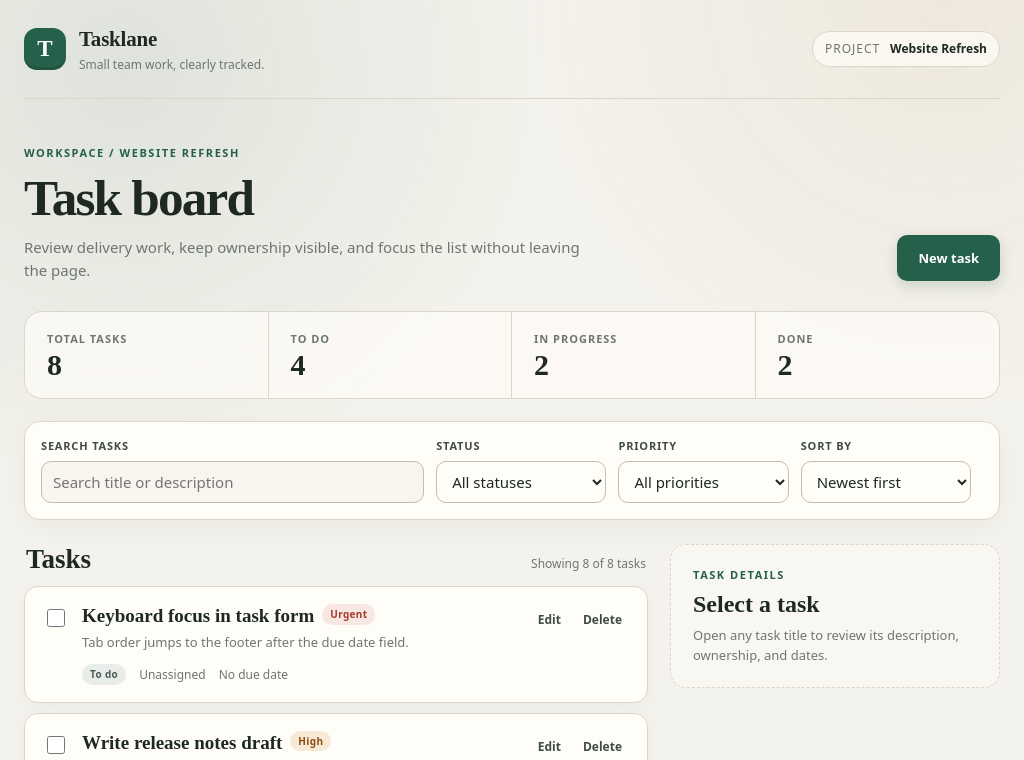
Test: TaskBoard › creates a task and adds it to the list
The image size is (1024, 760).
Click the button "New task" at (949, 258), box x1=898 y1=235 x2=1000 y2=281
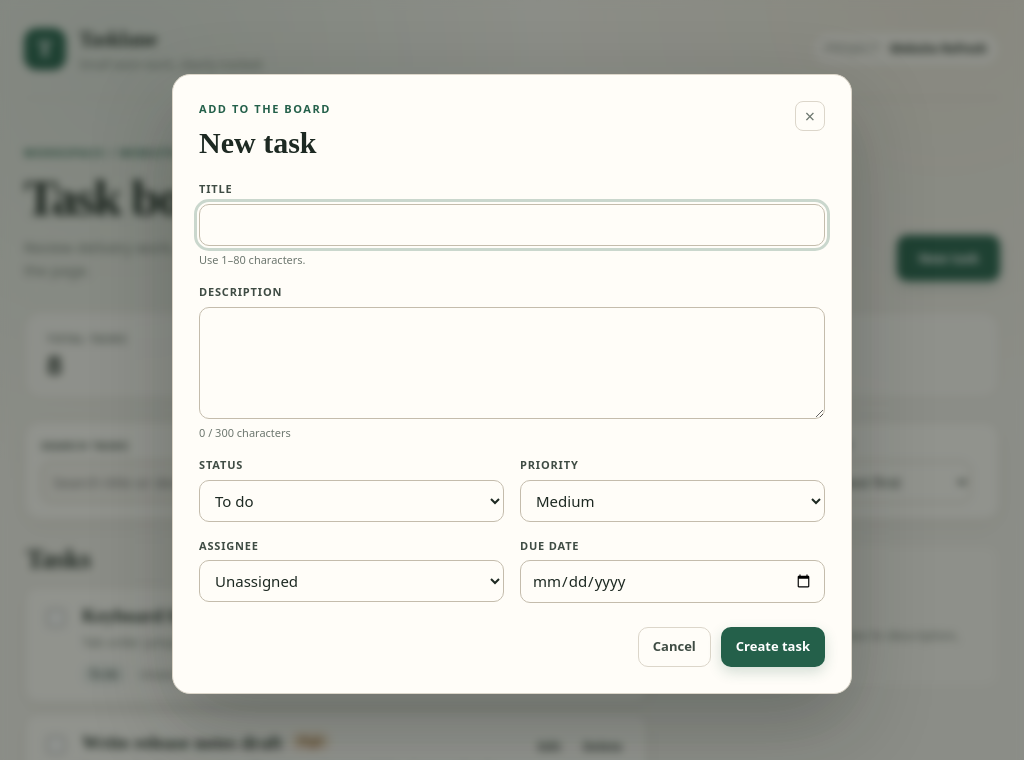
Type "Draft launch announcement" into the field labelled "Title" at (512, 225), box x1=199 y1=204 x2=825 y2=246
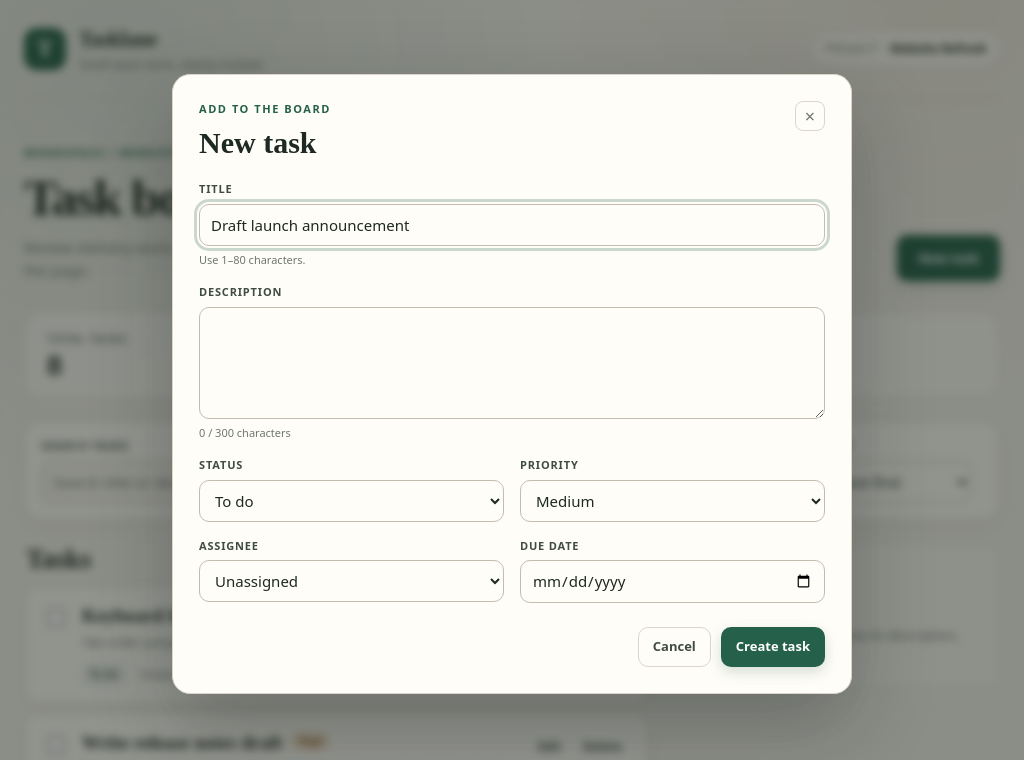
Type "Write a short note for the internal launch channel." into the text box labelled "Description" at (512, 363), box x1=199 y1=307 x2=825 y2=419
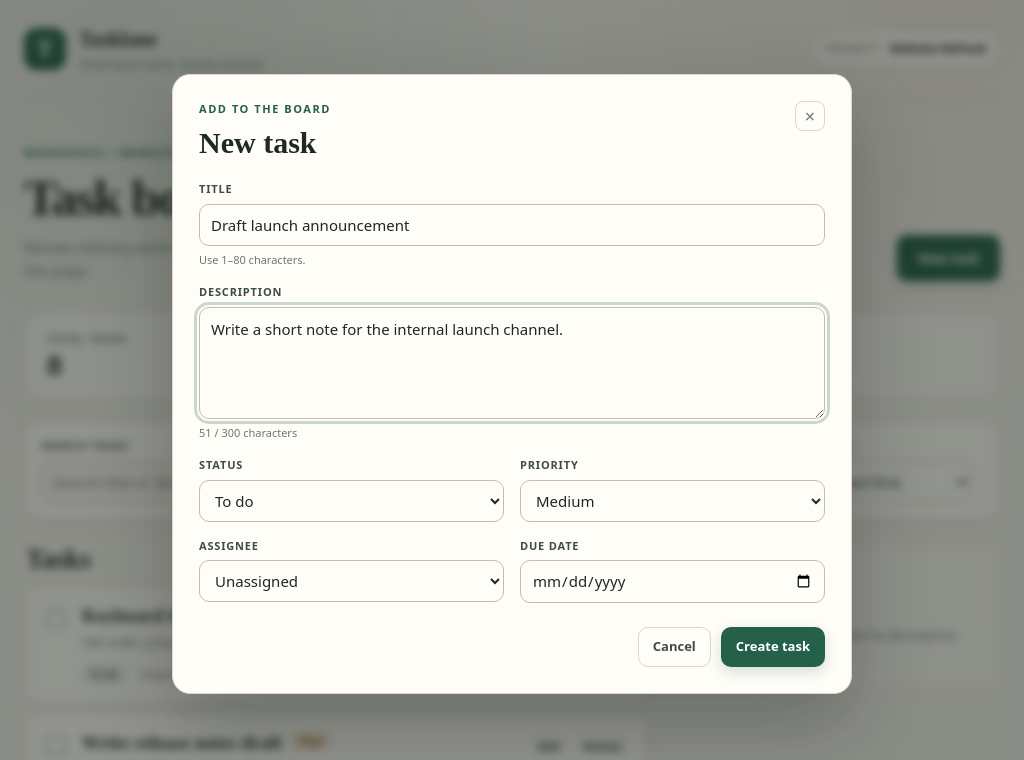
Select "High" in the dropdown labelled "Priority" at (672, 501), box x1=520 y1=480 x2=825 y2=522
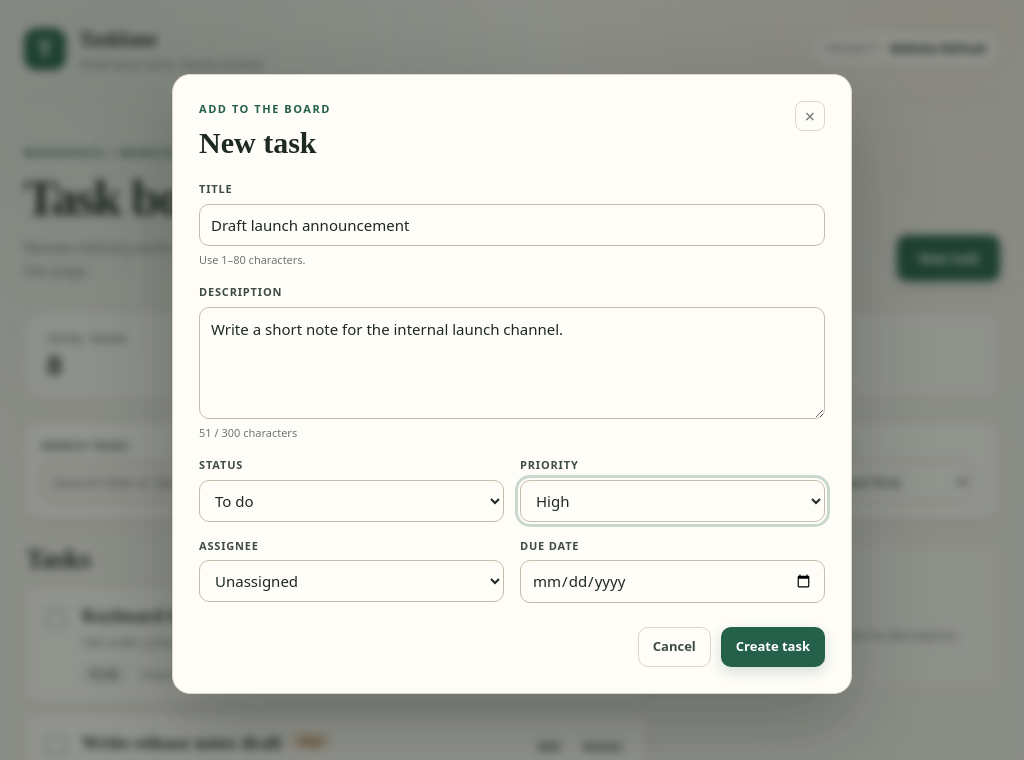
Click the button "Create task" at (773, 647), box x1=721 y1=627 x2=825 y2=667
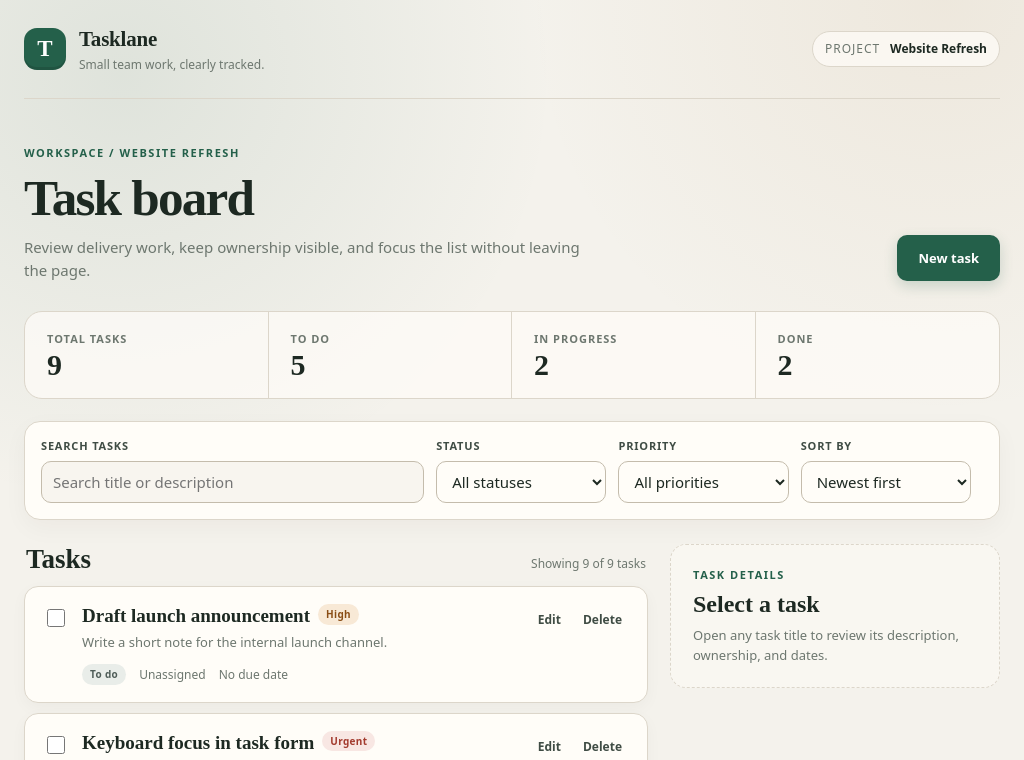
Check: the button "Draft launch announcement" is shown, box x1=82 y1=604 x2=310 y2=628
Check: the text "Showing 9 of 9 tasks" is shown, box x1=531 y1=555 x2=646 y2=573
